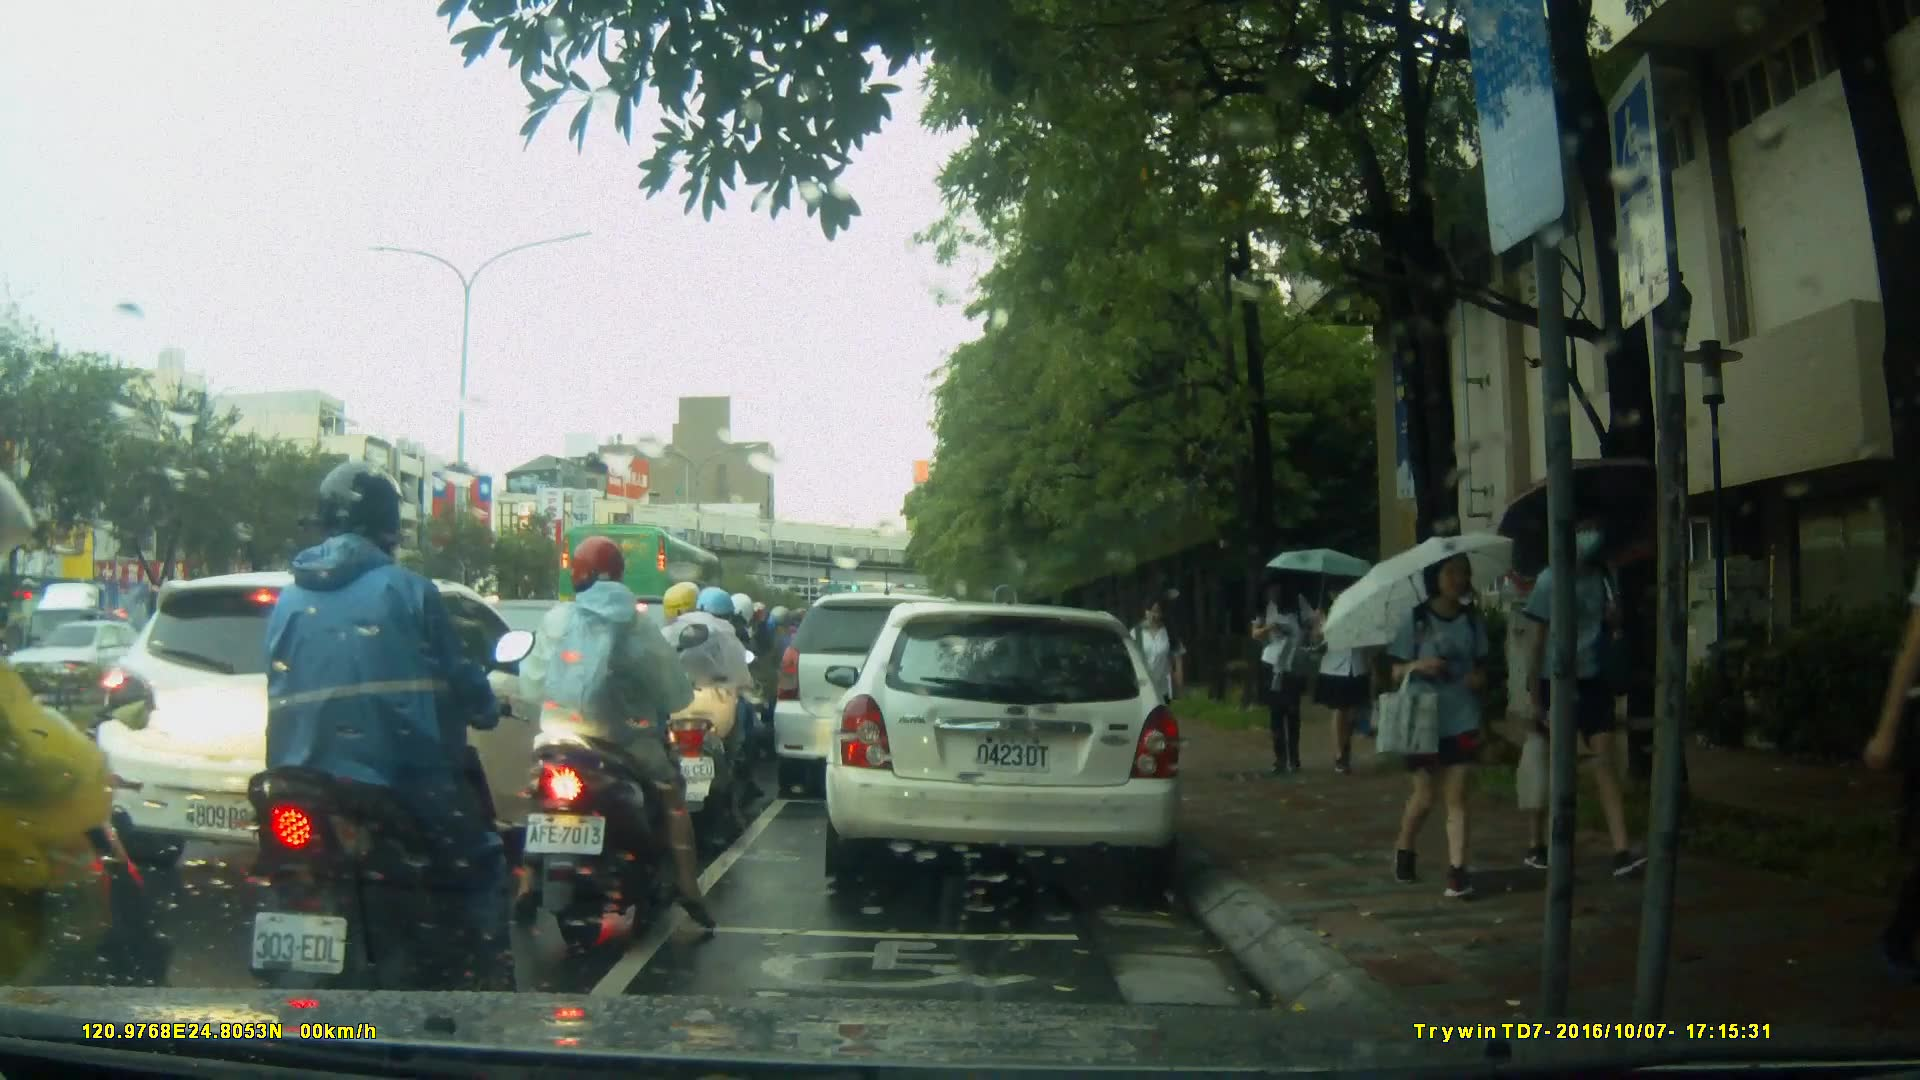pedestrian: (1368, 524, 1506, 914), (1519, 487, 1654, 883), (1860, 429, 1920, 988), (1306, 563, 1379, 778), (1253, 567, 1317, 776), (1125, 590, 1192, 772)
rider: (244, 465, 527, 1028), (1, 455, 181, 1080), (521, 537, 740, 937), (632, 586, 769, 849), (674, 594, 765, 788)
vehicle: (93, 569, 617, 883), (822, 604, 1187, 883), (774, 595, 995, 802), (568, 524, 747, 659), (20, 576, 199, 697), (18, 618, 205, 717)
